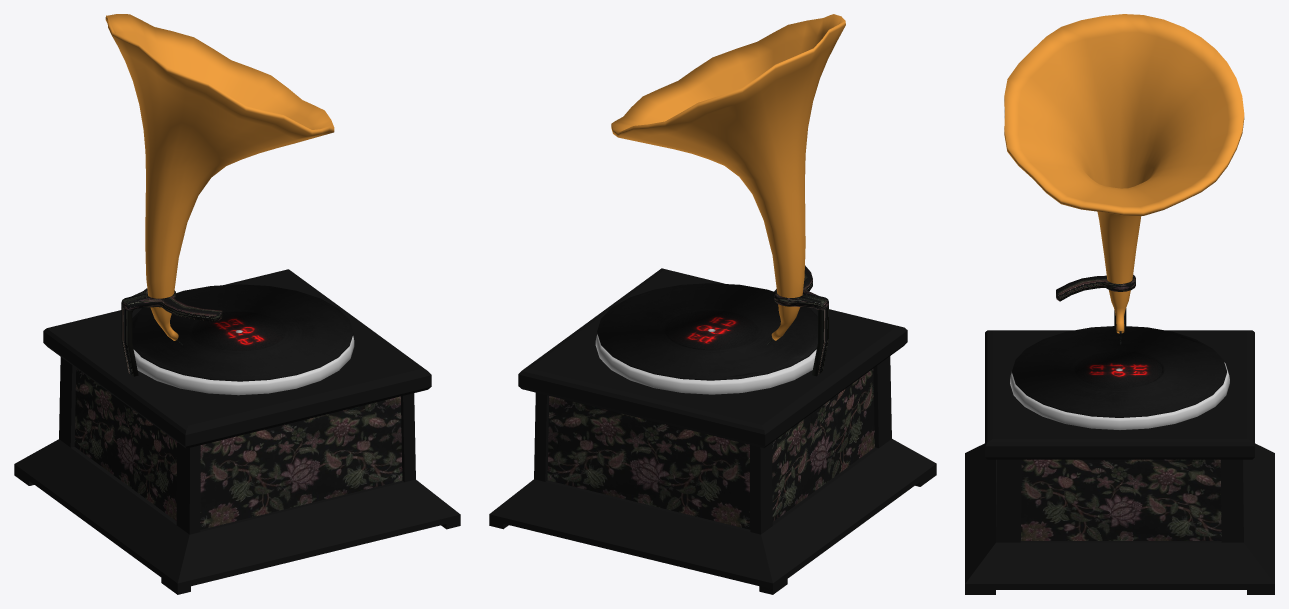
The model's file is GramoPhone.glb.
3 views of the same model, side by side, from view 1: azimuth 30°, elevation 25°; view 2: azimuth 150°, elevation 25°; view 3: azimuth 270°, elevation 25° (orthographic). The views are drawn at different scales.
Parts seen in each view (by area): view 1: Cube, Torus, Cylinder.002, Cylinder.001; view 2: Cube, Torus, Cylinder.002, Cylinder.001; view 3: Cube, Torus, Cylinder.002, Cylinder.001.
Boxes of the visible parts, x1,y1,x2,y2 form: Cube: (14, 269, 460, 594); Torus: (105, 14, 334, 376); Cylinder.002: (132, 284, 353, 381); Cylinder.001: (133, 336, 354, 395); Cube: (489, 268, 936, 594); Torus: (611, 14, 845, 376); Cylinder.002: (597, 283, 817, 380); Cylinder.001: (595, 334, 827, 394); Cube: (965, 330, 1274, 594); Torus: (1004, 14, 1244, 344); Cylinder.002: (1012, 326, 1226, 417); Cylinder.001: (1010, 362, 1229, 429).
Size of the model in its own units: 2.53 by 4.17 by 2.53.
Materials: 3 (3 with a texture image).
